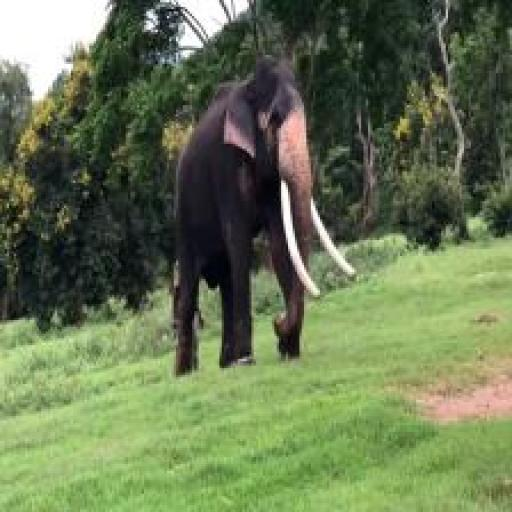Elephant: (162, 39, 365, 392)
